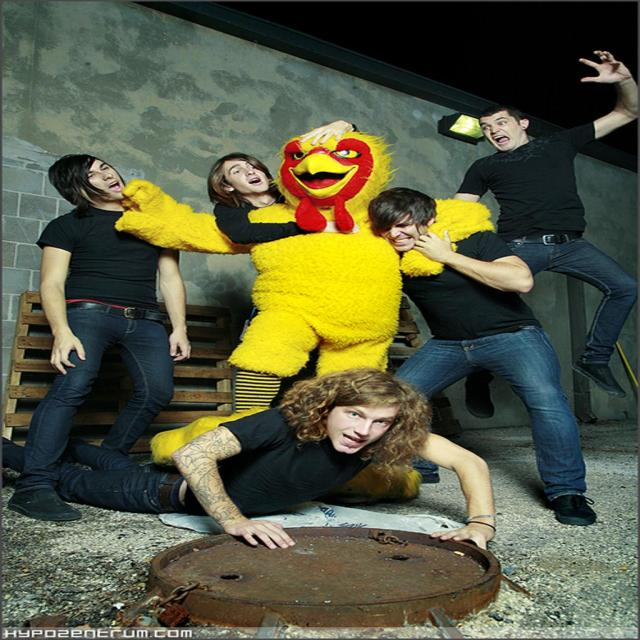Face: (299, 373, 417, 455), (68, 150, 142, 213), (372, 199, 444, 260), (476, 102, 547, 158), (201, 148, 277, 199)
